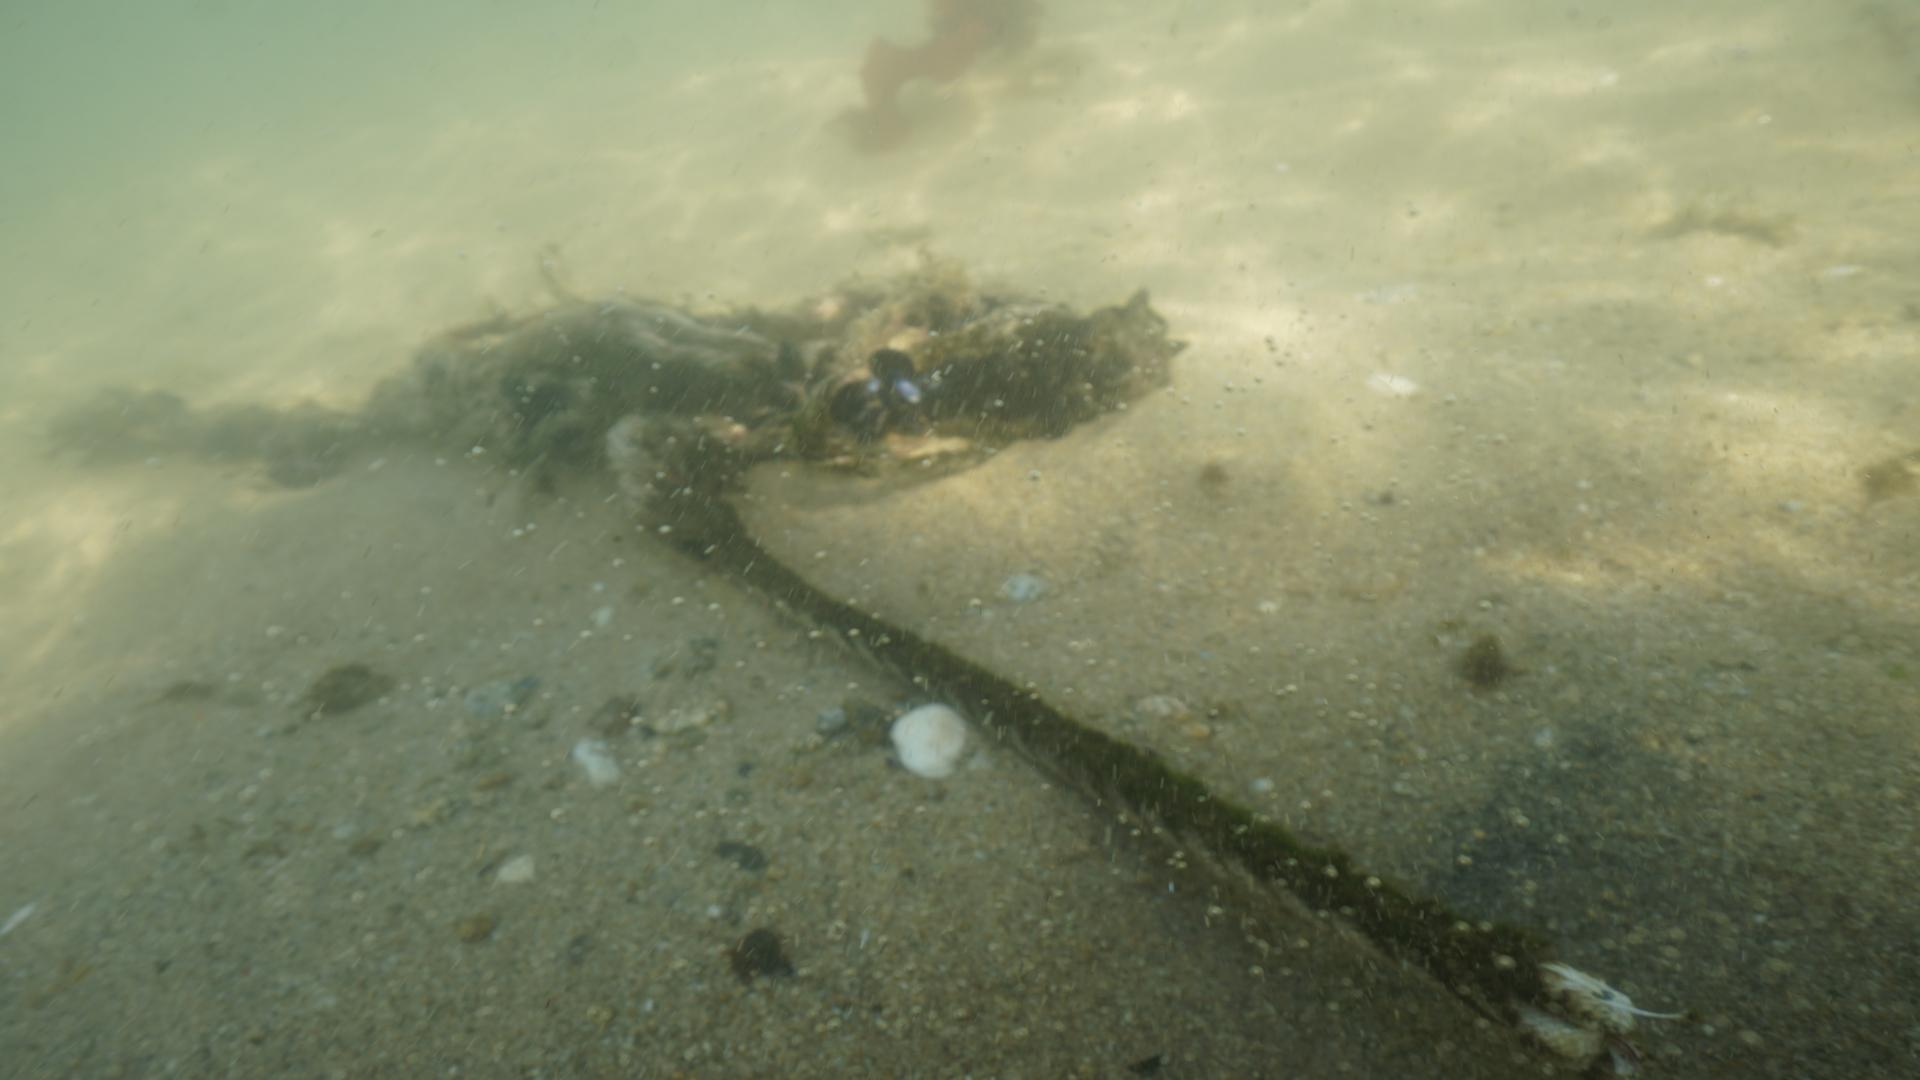bundle of ropes: (36, 270, 1631, 1069)
